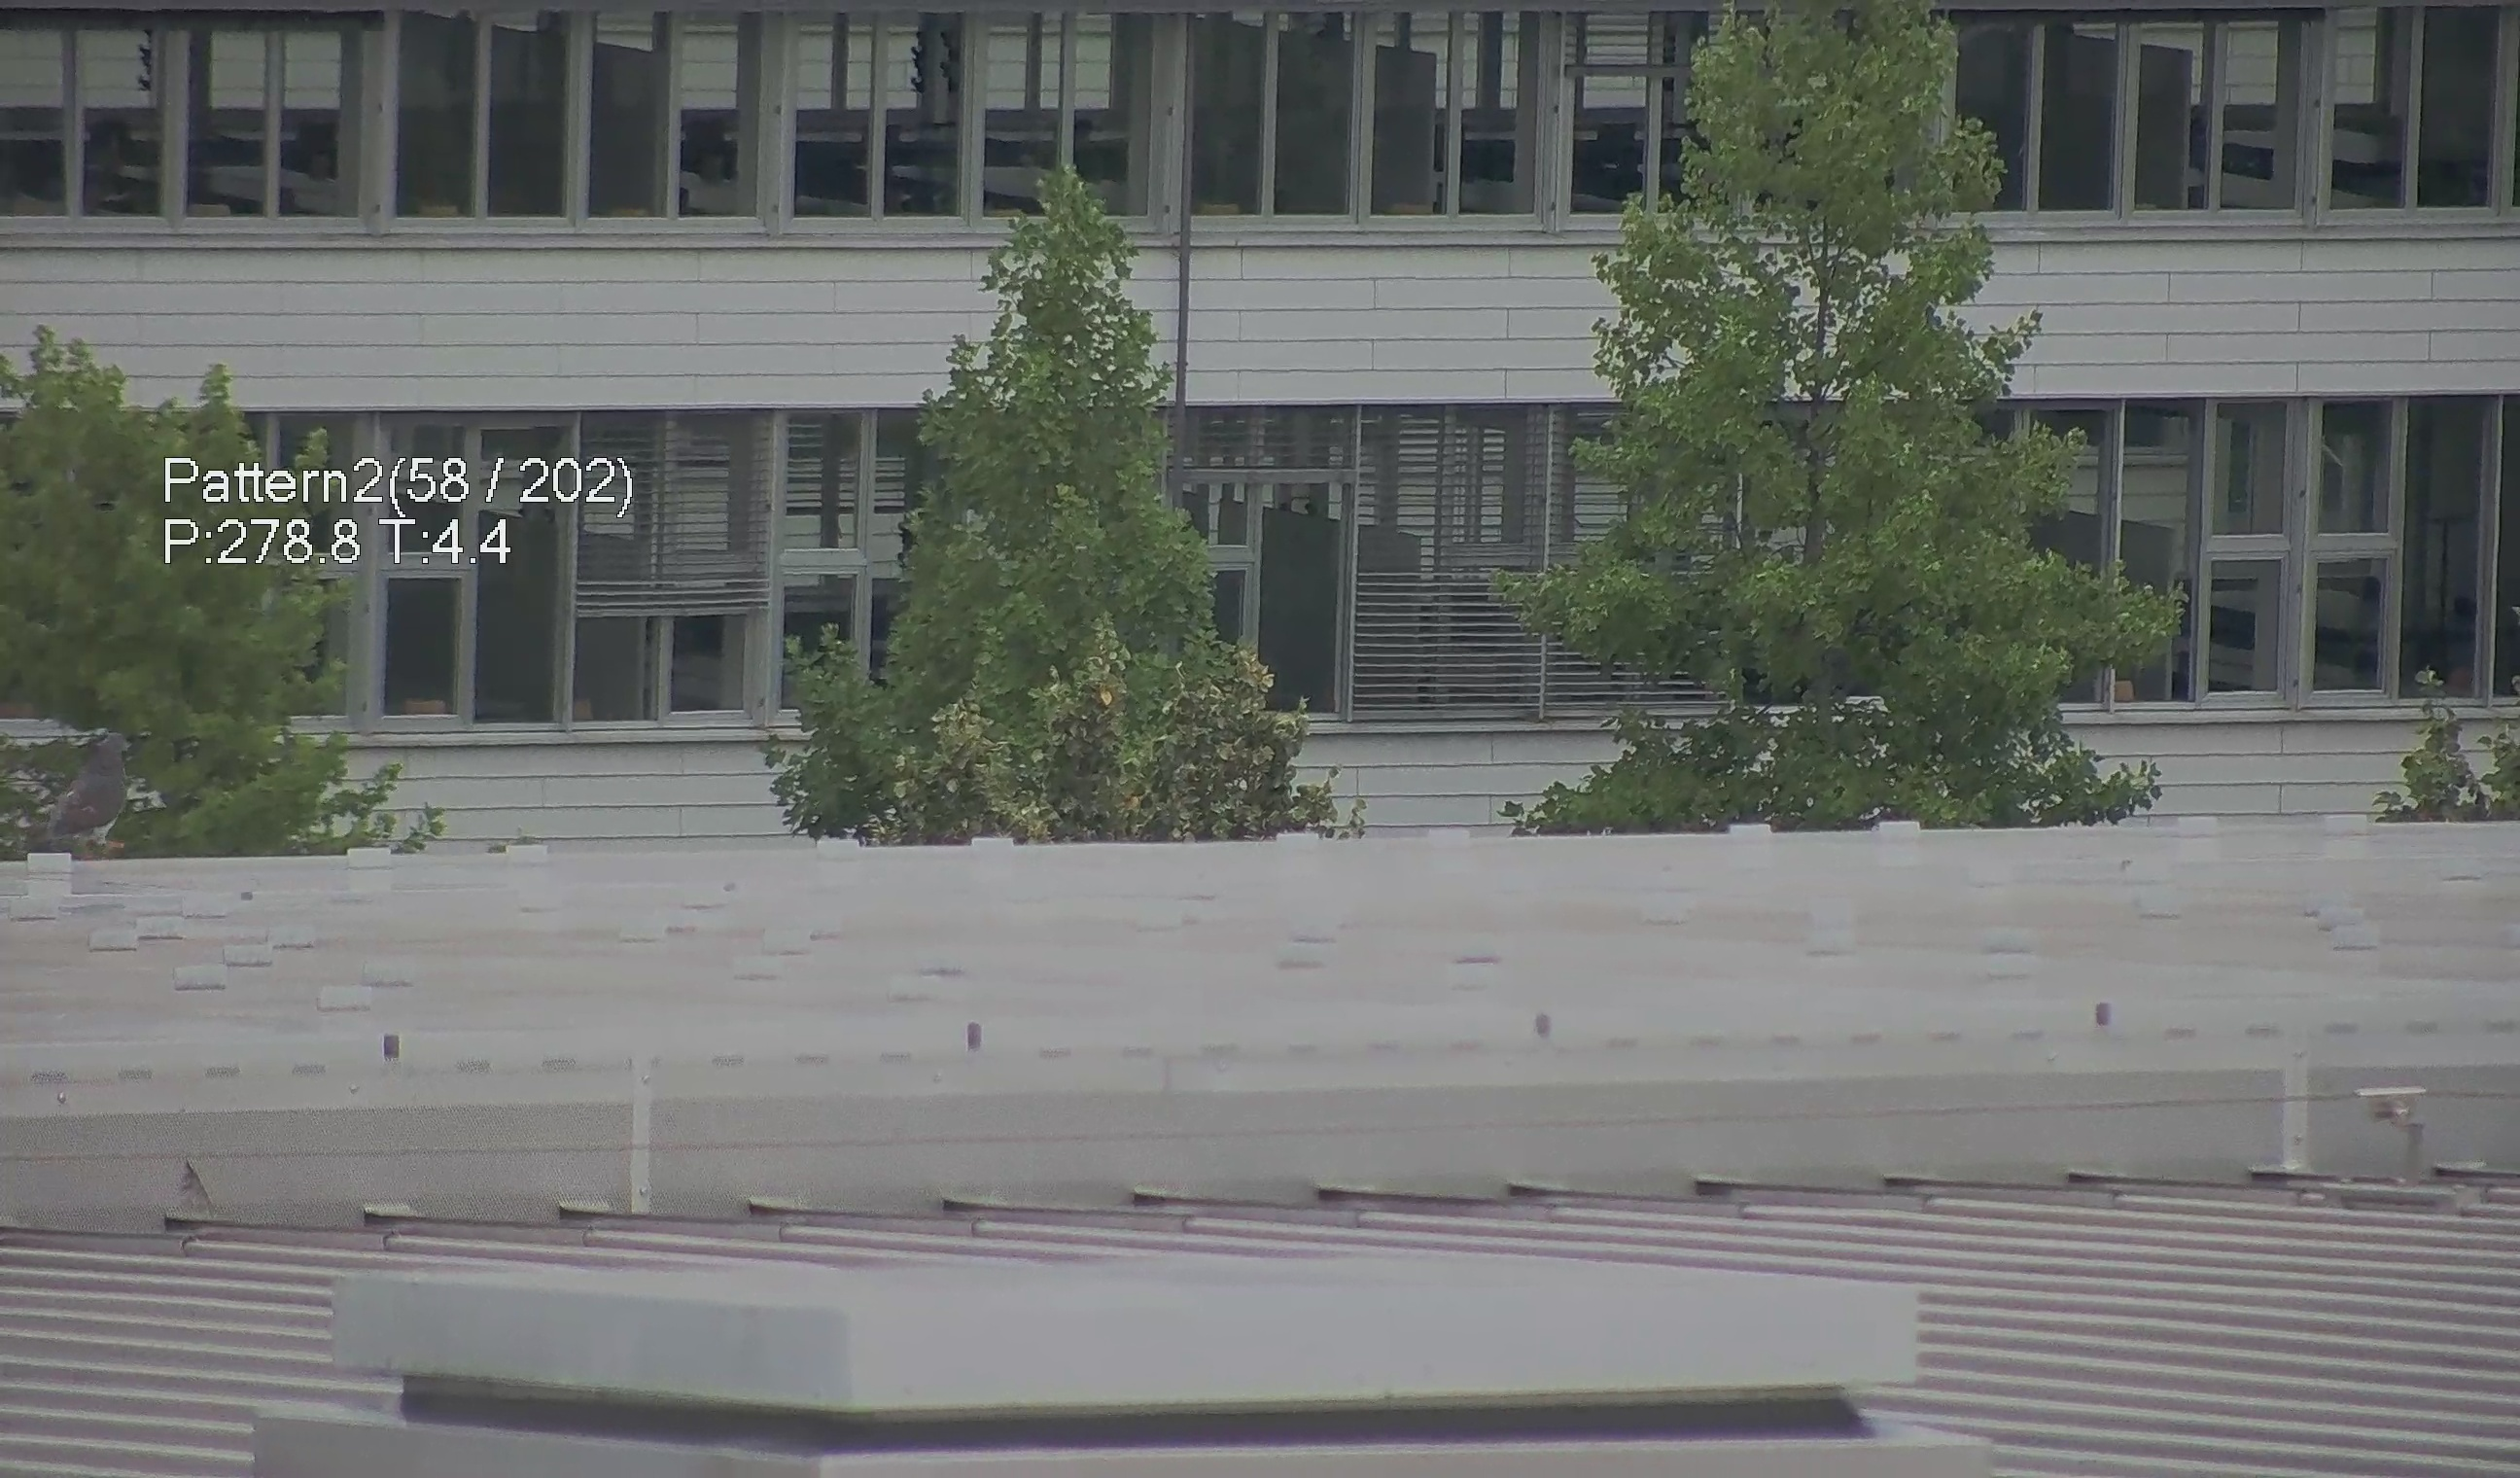Pigeon: (40, 725, 151, 859)
